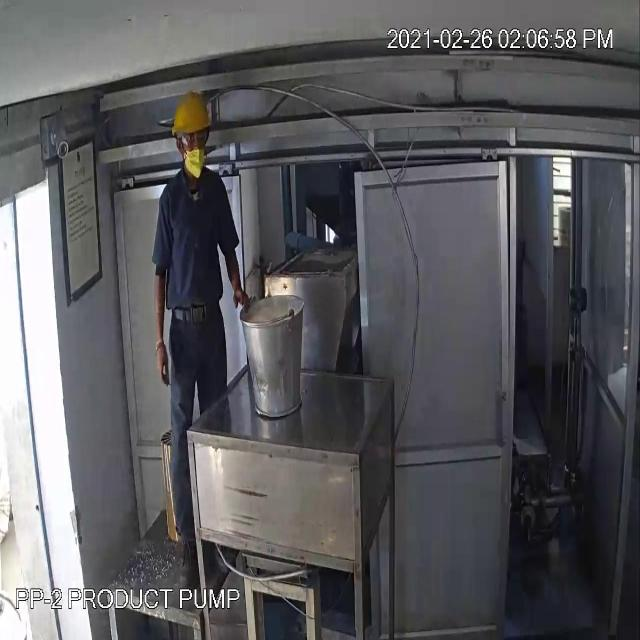helmet: (169, 92, 213, 148)
